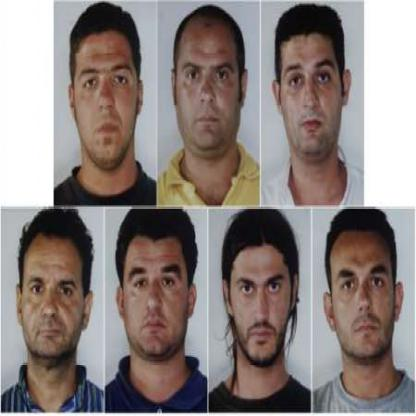face: (74, 8, 140, 167), (123, 211, 191, 360), (176, 7, 243, 158), (331, 216, 398, 361), (279, 12, 344, 158), (22, 218, 87, 363), (231, 215, 293, 366)
